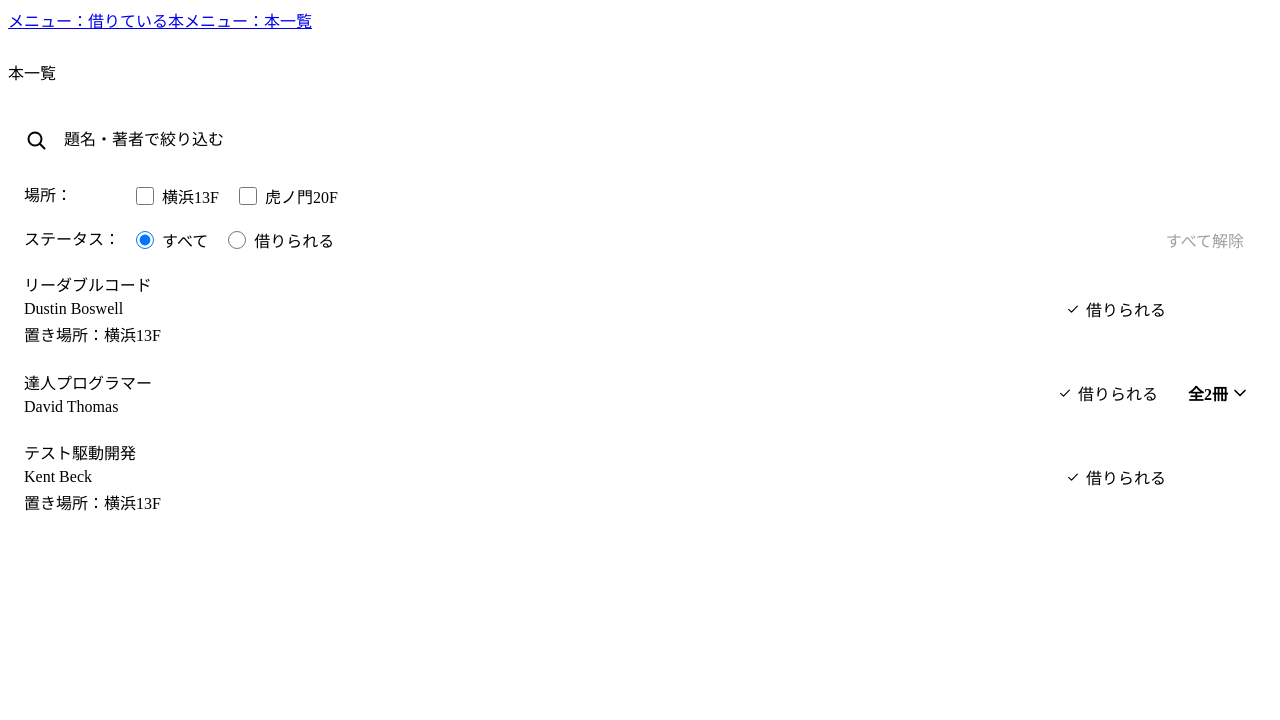
Scenario: BookListPage の状態の保持 › KS-14: スクロールしてから本詳細画面へ移動して戻ると、読み込み後に同じ位置へ戻す
Later steps or results of the test are not shown.
(page scrolled)
Click the link "テスト駆動開発 Kent Beck 置き場所：横浜13F 借りられる": (80, 454) [8,428,1272,526]
(page scrolled)
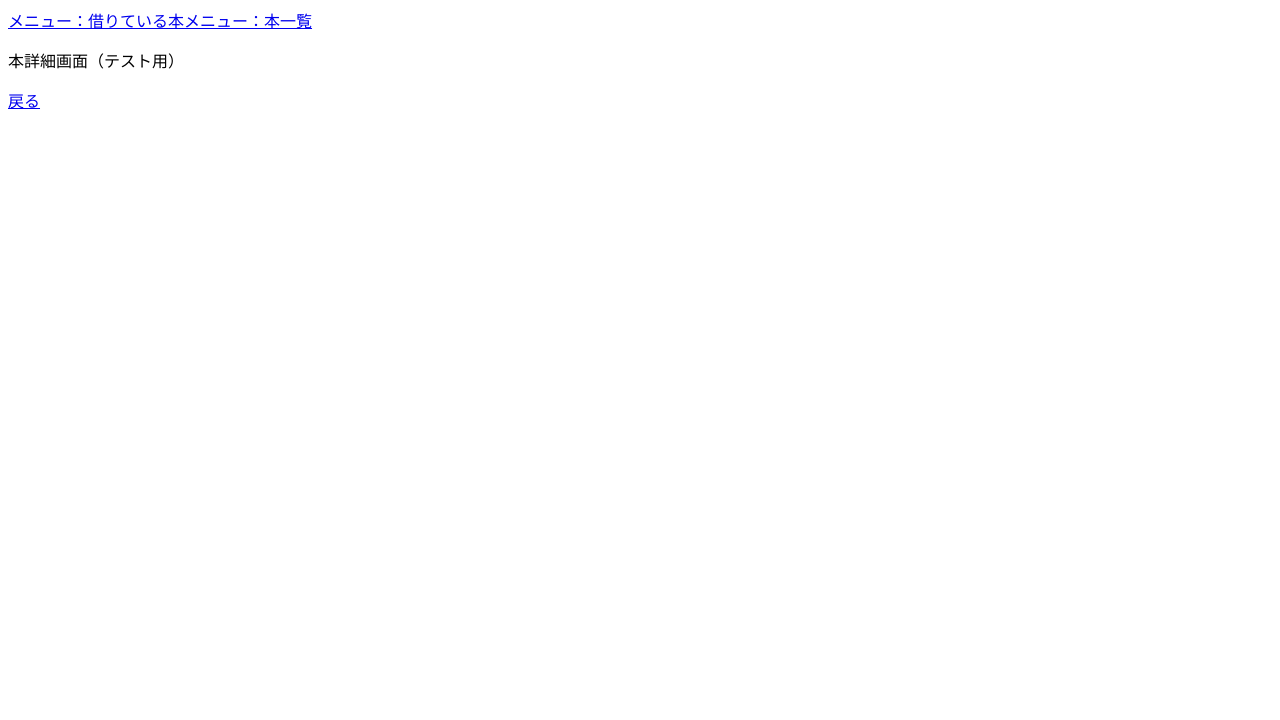
Check: the text "本詳細画面（テスト用）" is shown, box [8,53,184,70]
